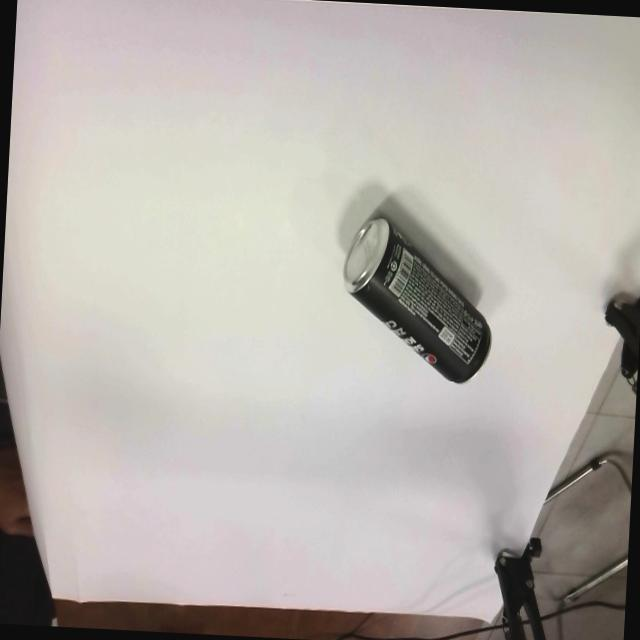debris: (336, 214, 497, 386)
